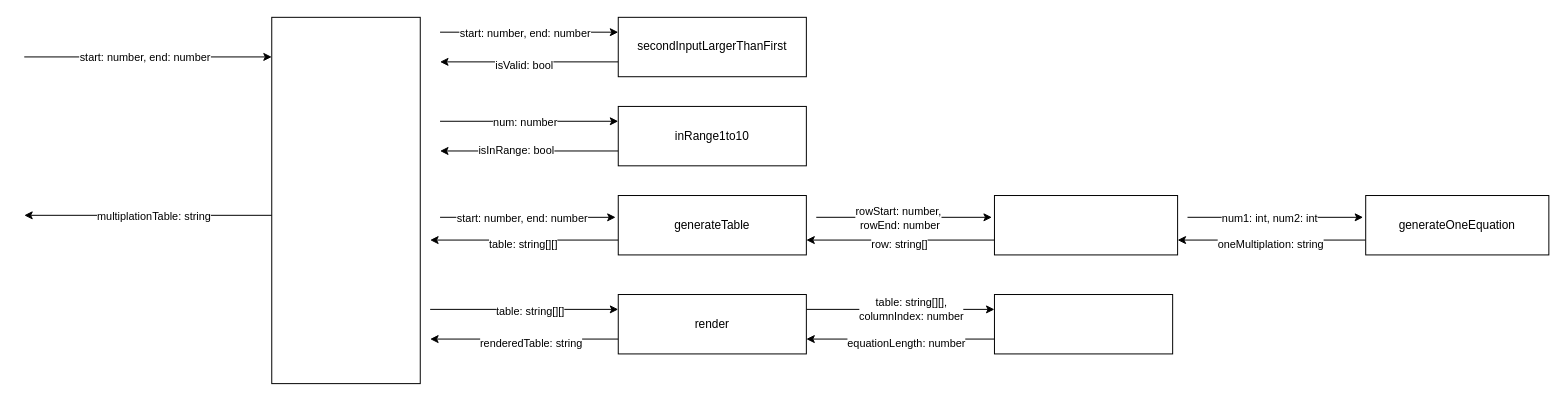
Image size: 1566x401. Some labels were removed from this diagram. Each missing label, with the centre of its shape:
"calculateEquationLength" belongs at (x=1083, y=324).
"generateOneRow" belongs at (x=1085, y=225).
"renderMultiplicationTable" belongs at (x=345, y=200).
